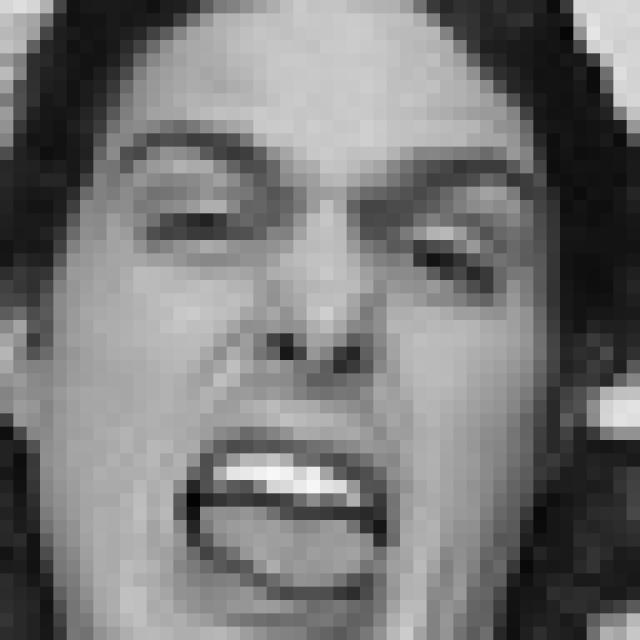disgust: (104, 120, 546, 619)
